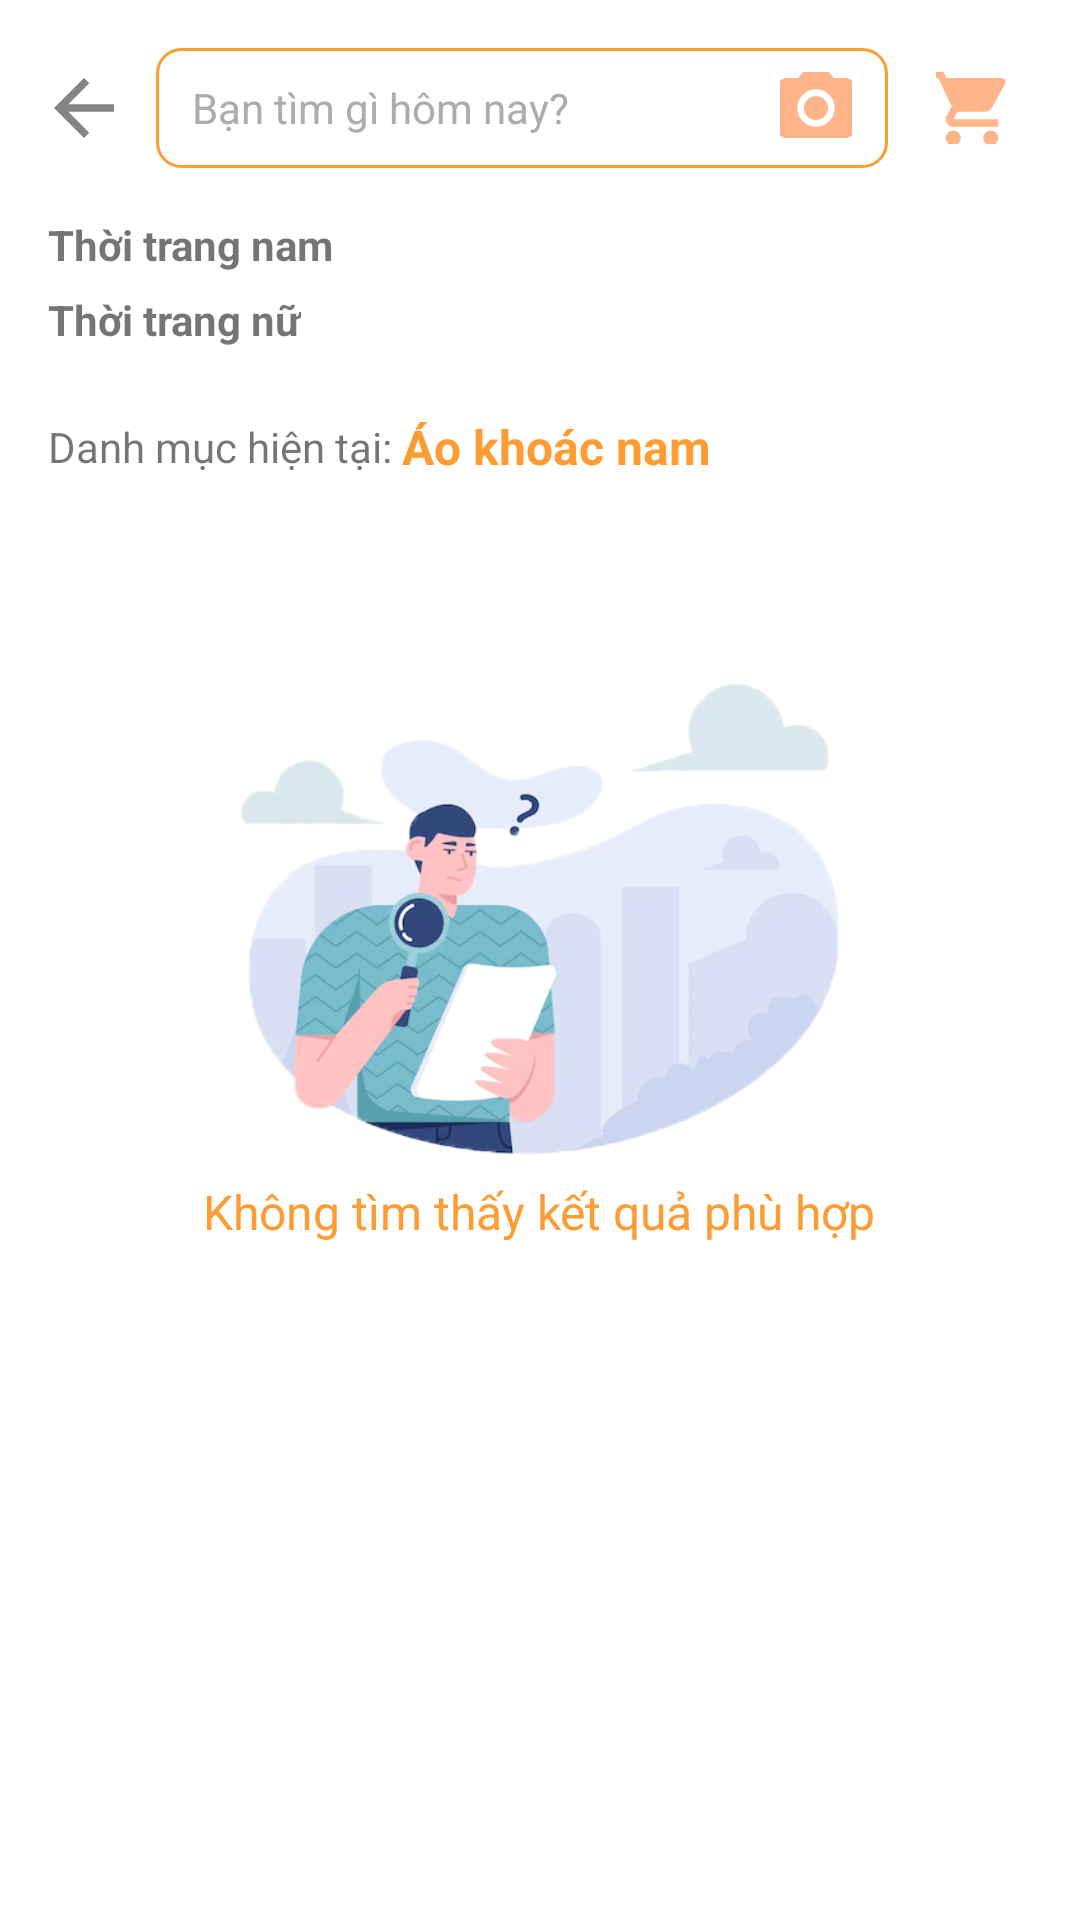

Icons on this 1080×1920 Android screen, each with the point to tap as (x,y):
back: (84,108)
camera: (816,105)
cart icon: (971,108)
